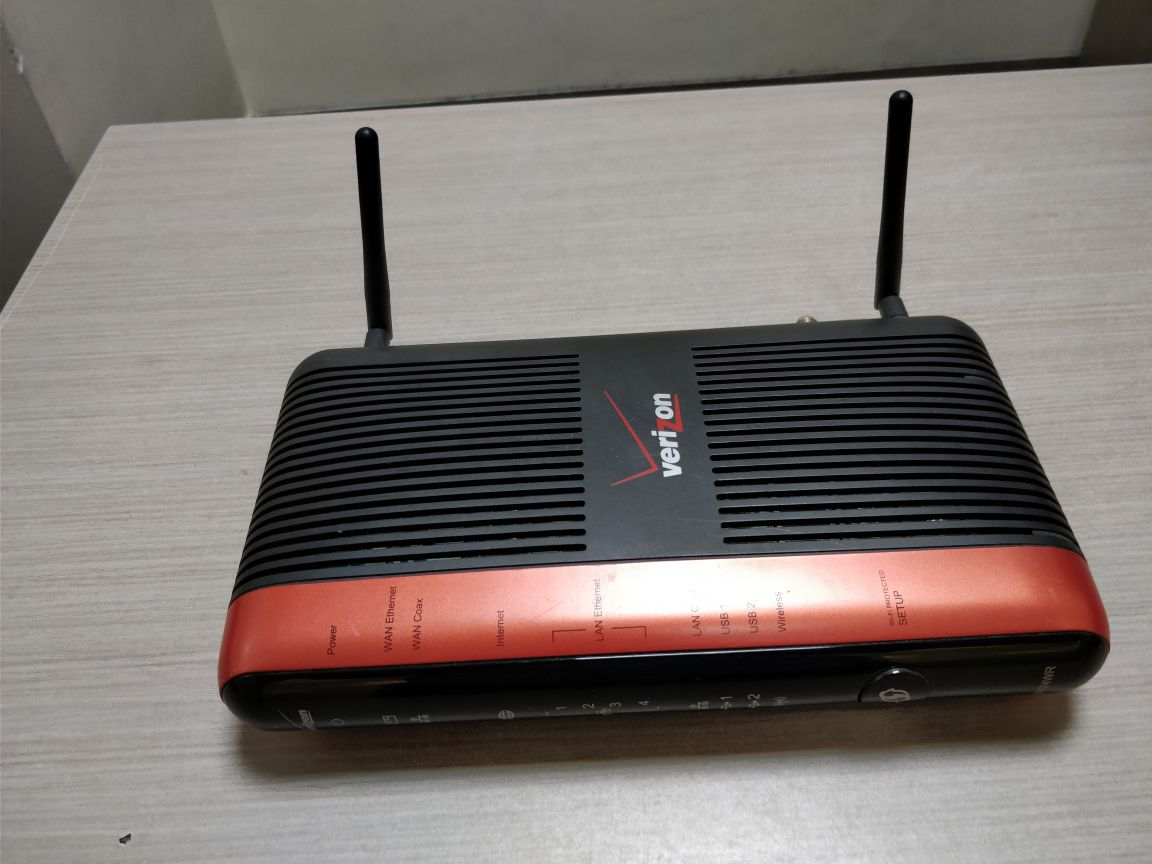Verizon Router: (215, 119, 1118, 746)
